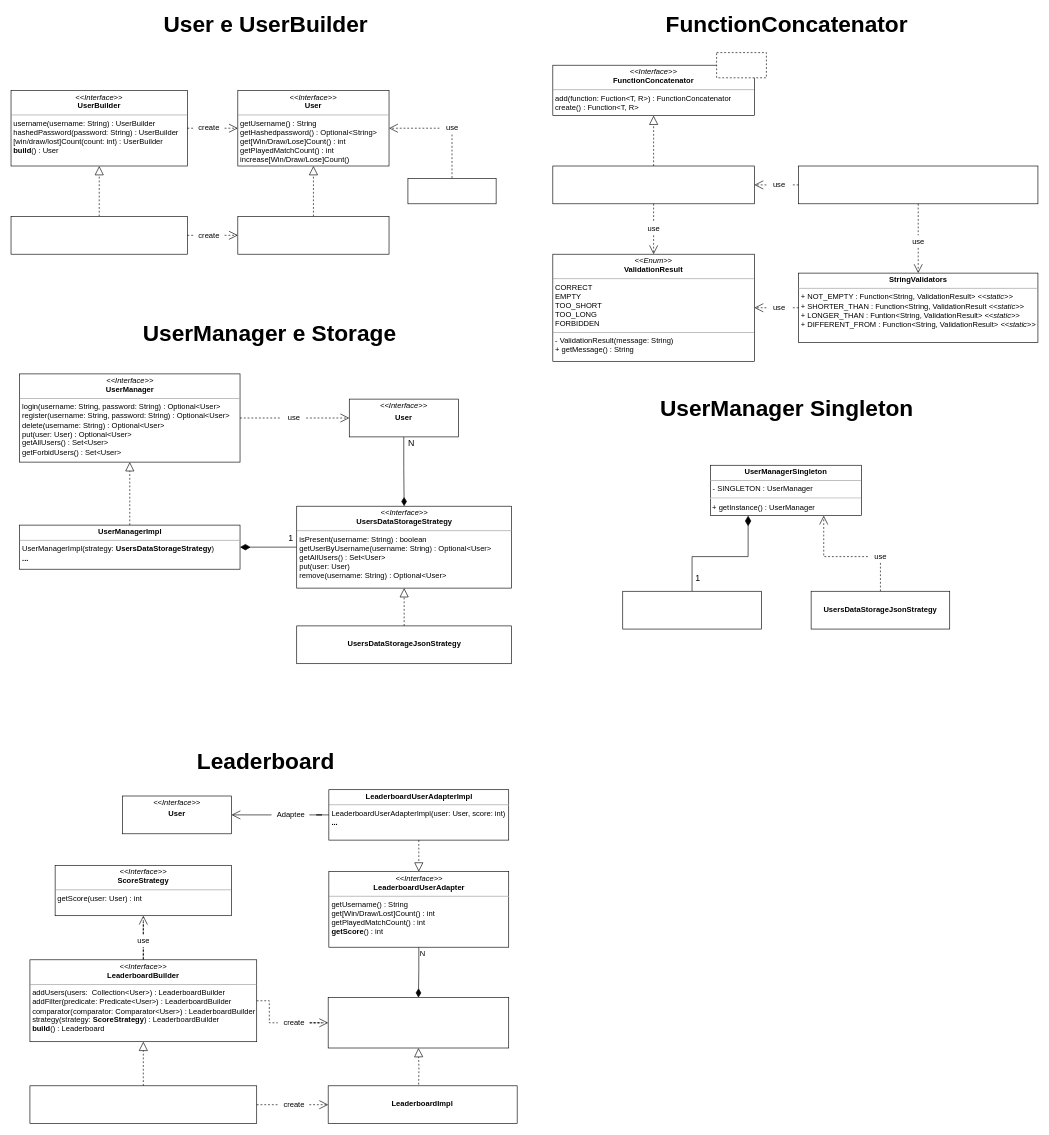
The diagram is 1049 pixels wide and 1135 high, and some of its shapes have lost their labels. The shapes that lost their labels are listed below. From the top down, each one's centre as x and y in pixels, then its label:
At (741,65): "T, R".
At (451,191): "<<Interface>> Player".
At (653,184): "StringValidatorImpl<String, ValidationResult>".
At (918,184): "LoginController".
At (98,235): "UserBuilderImpl".
At (313,235): "UserImpl".
At (691,610): "<<Interface>> UserManager".
At (418,1022): "<<Interface>> Leaderboard getUsers() : List< LeaderboardUserAdapter >".
At (143,1104): "LeaderboardBuilderImpl".
